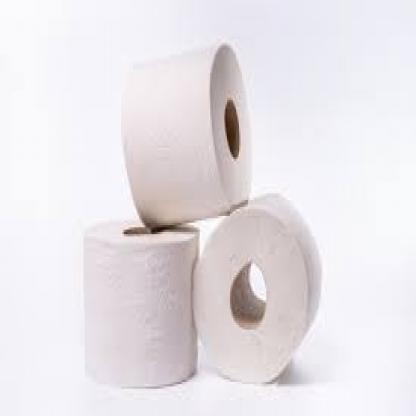tissue: (120, 47, 248, 216), (198, 223, 328, 384)
